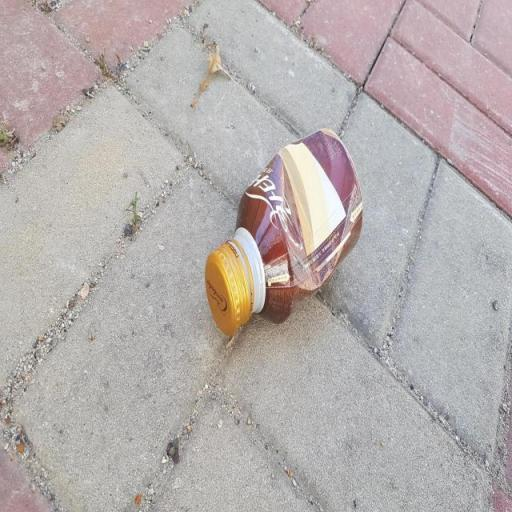metal: (164, 118, 402, 386)
